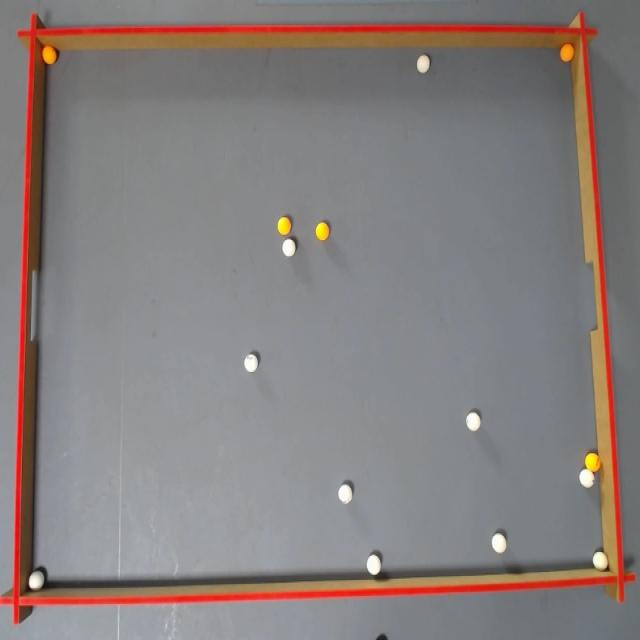orange_ball: (585, 452, 600, 472), (42, 46, 57, 64), (560, 43, 574, 62), (315, 222, 329, 240), (278, 217, 290, 234)
white_ball: (28, 570, 45, 590), (492, 532, 506, 554), (367, 553, 381, 575), (593, 551, 608, 571), (466, 412, 481, 431), (338, 484, 352, 504), (580, 469, 594, 488), (244, 354, 258, 372), (282, 238, 296, 256), (416, 54, 429, 73)
